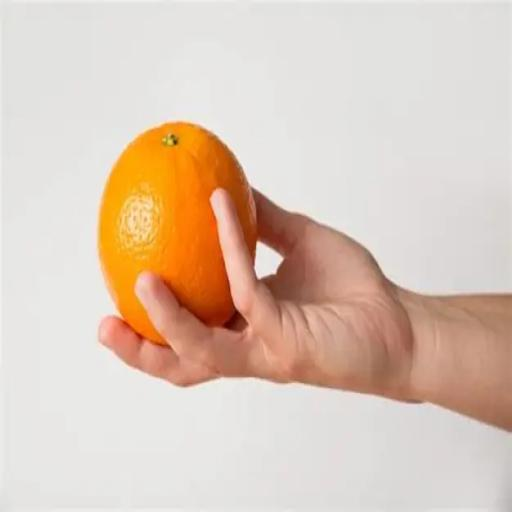orange: (99, 122, 256, 343)
